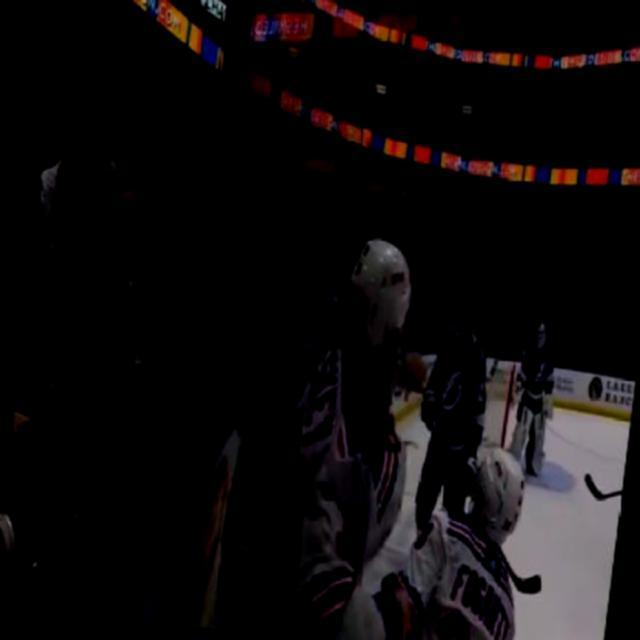fight: (212, 207, 434, 638)
non-fight: (407, 278, 501, 524), (500, 314, 566, 490)
